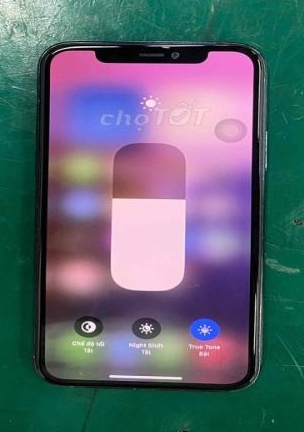scratch: (59, 378, 164, 402), (204, 40, 267, 63), (23, 88, 53, 122), (153, 39, 176, 57)
